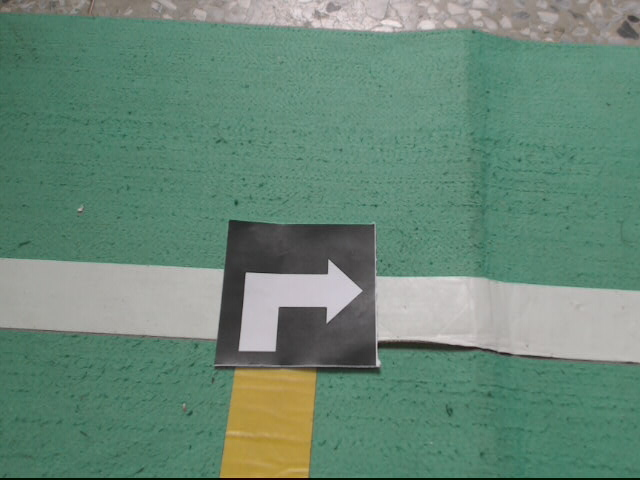right: (213, 218, 379, 366)
